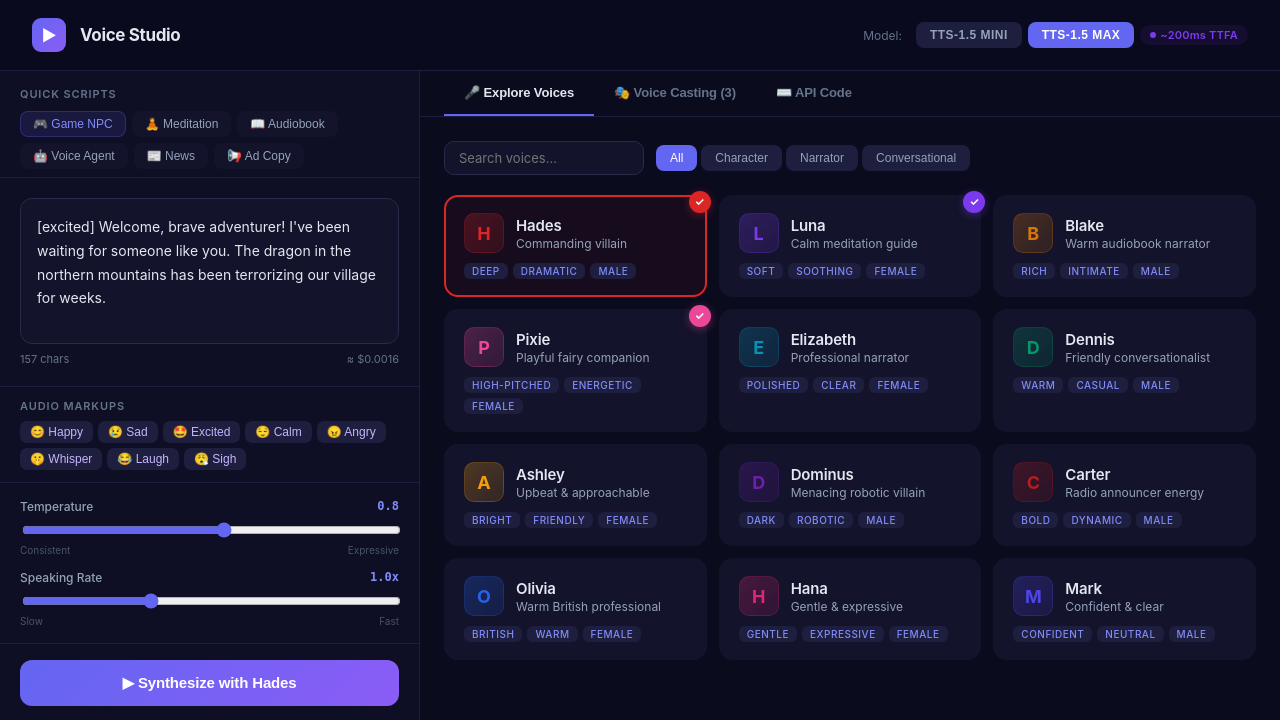
Test: VoiceStudio › switches to Cast tab on click
Click the button "🎭 Voice Casting (3)".
click(675, 94)  # box [594, 71, 756, 116]
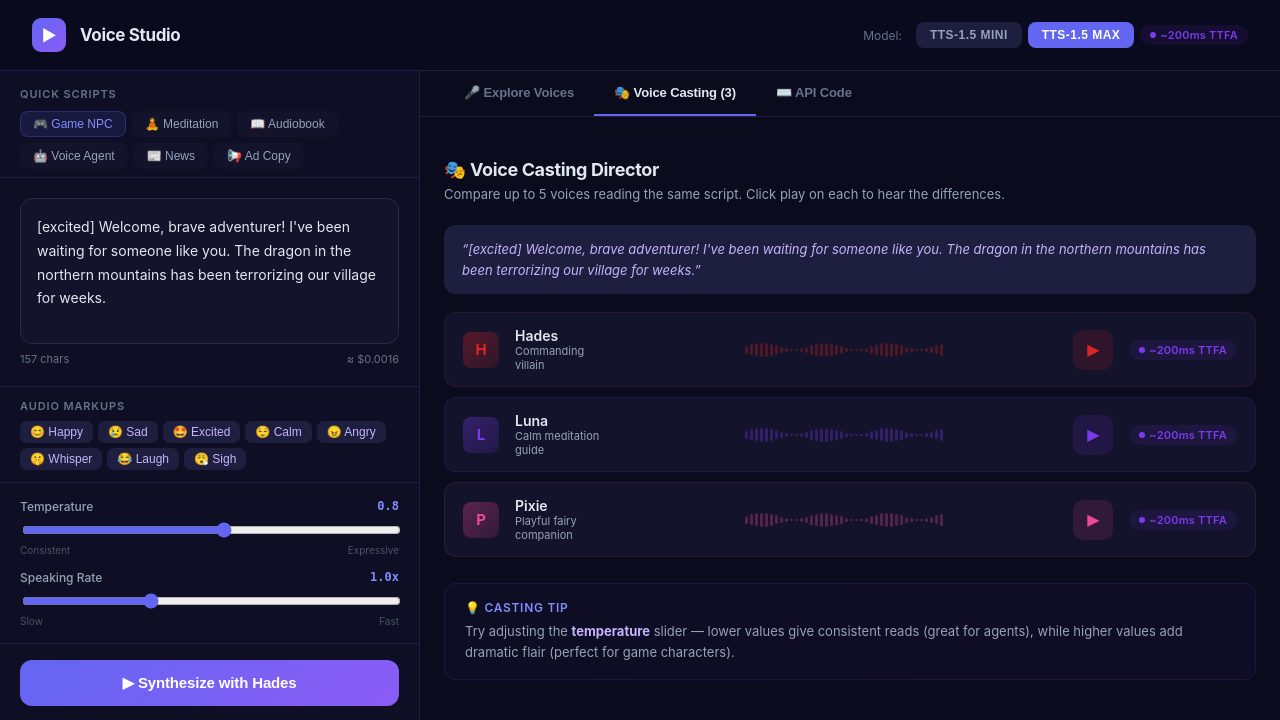
Check: the heading "🎭 Voice Casting Director" is shown, box [444, 159, 659, 180]
